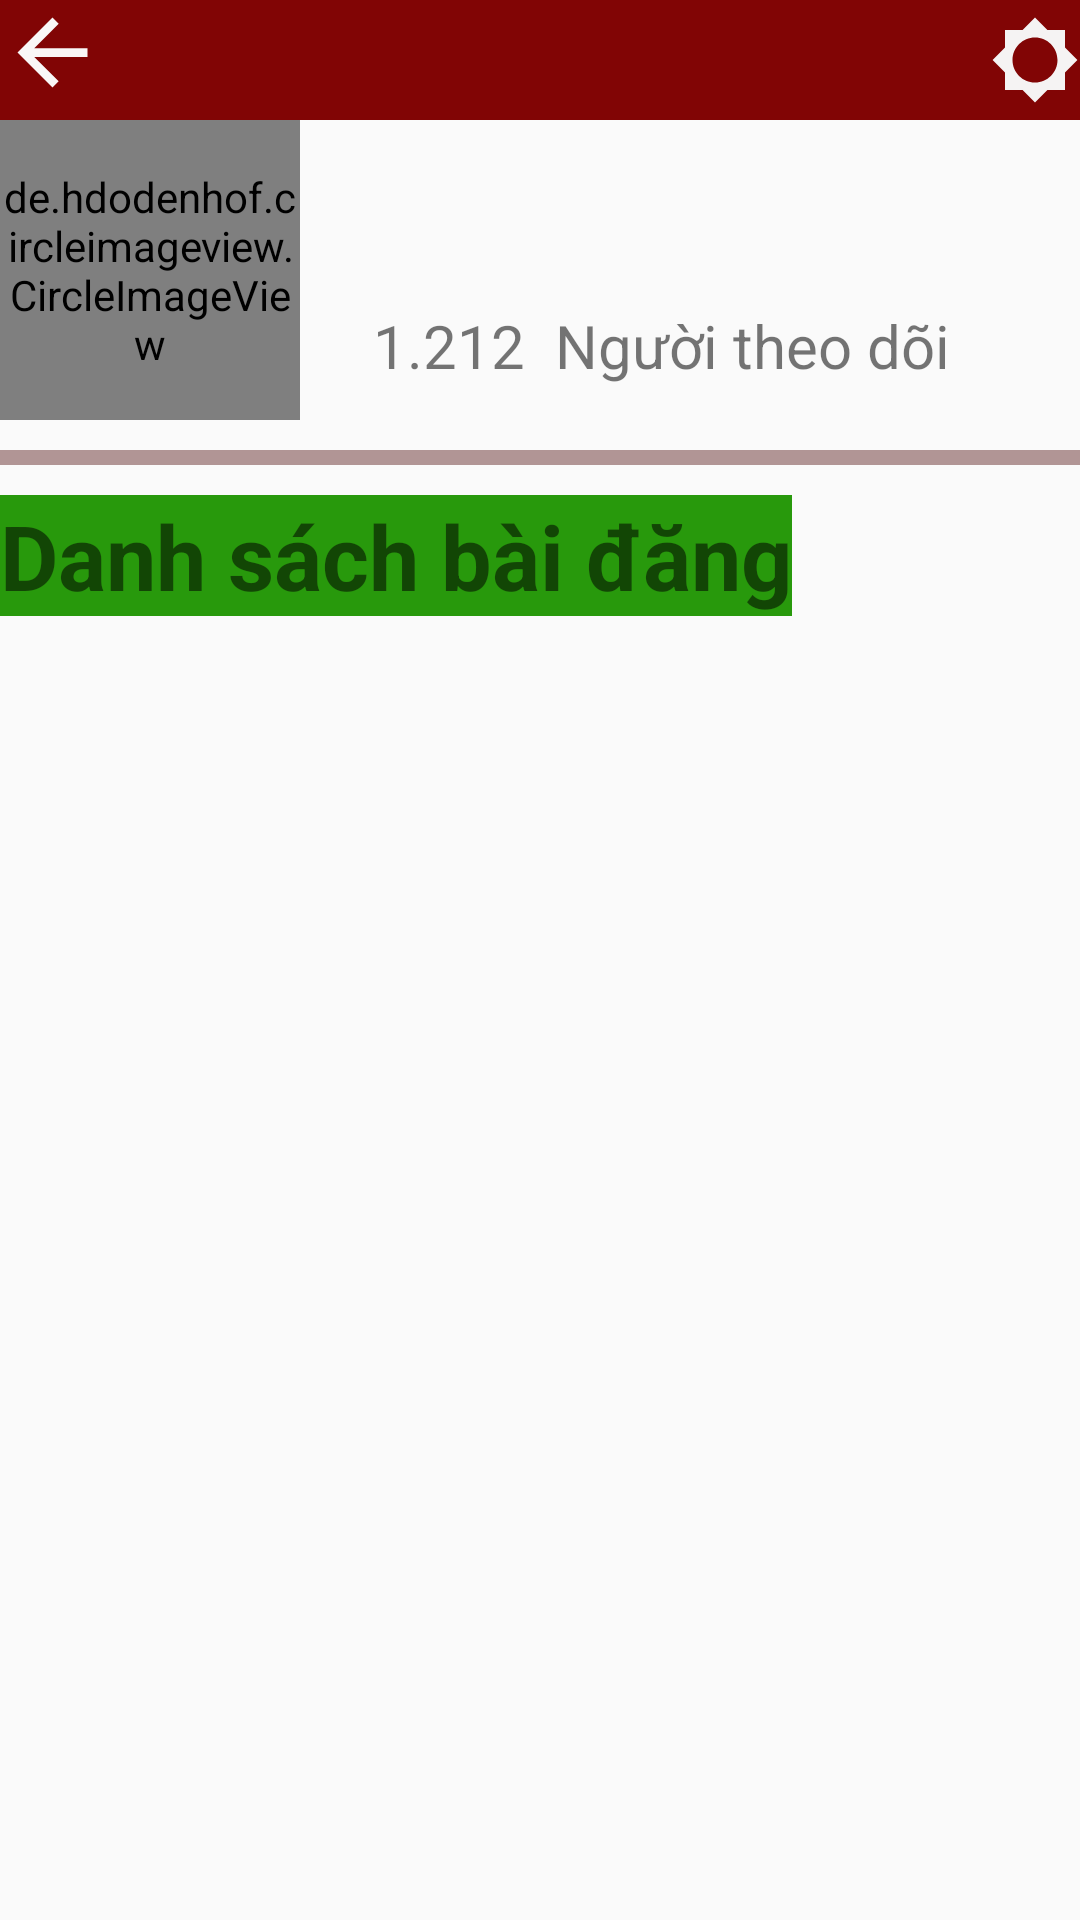

Where to tap for icons on this 1080×1920 app screen, as [x,y]:
back: [52,52]
